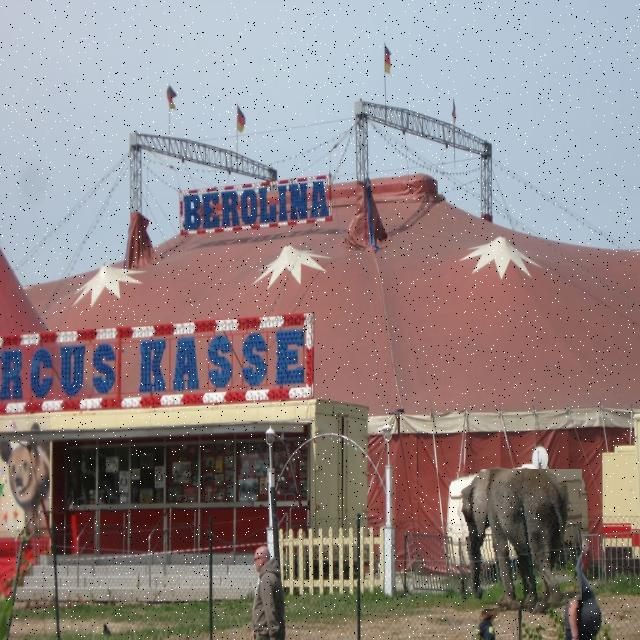elephant: (452, 469, 582, 611)
